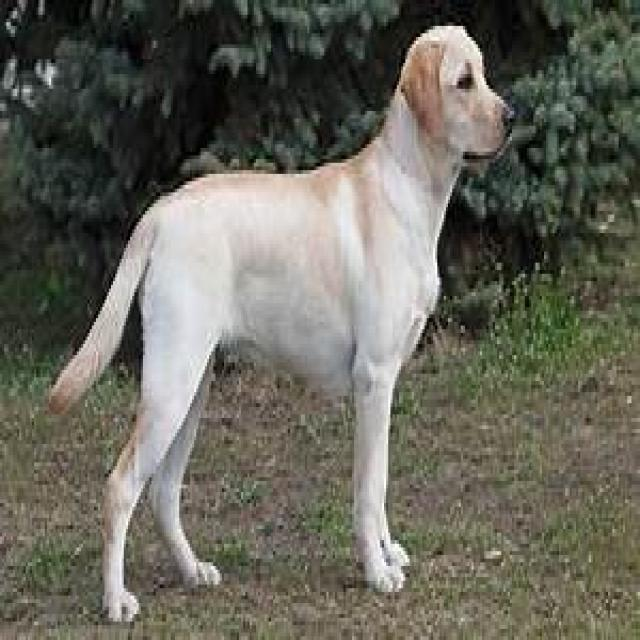dog: (48, 26, 510, 621)
